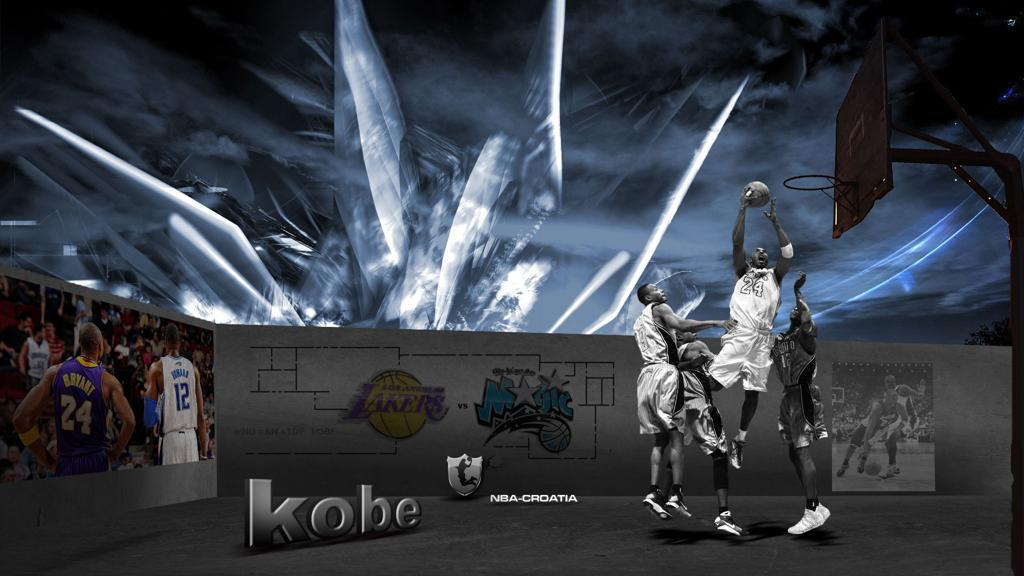face: (647, 286, 668, 303), (676, 327, 697, 342), (753, 248, 769, 266), (791, 304, 807, 318), (890, 394, 899, 406), (886, 382, 896, 392), (23, 320, 32, 330), (47, 325, 55, 335), (39, 328, 45, 339), (102, 309, 108, 317), (138, 358, 143, 367), (154, 332, 159, 340), (122, 338, 127, 345)
